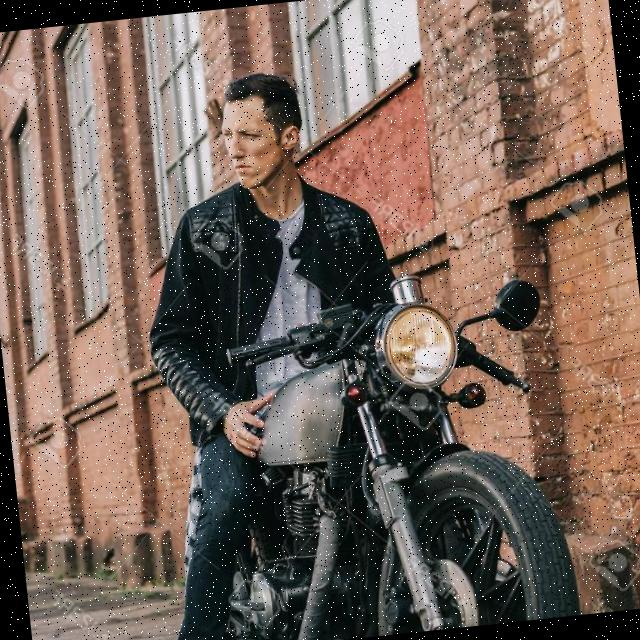No helmet: (207, 61, 320, 216)
